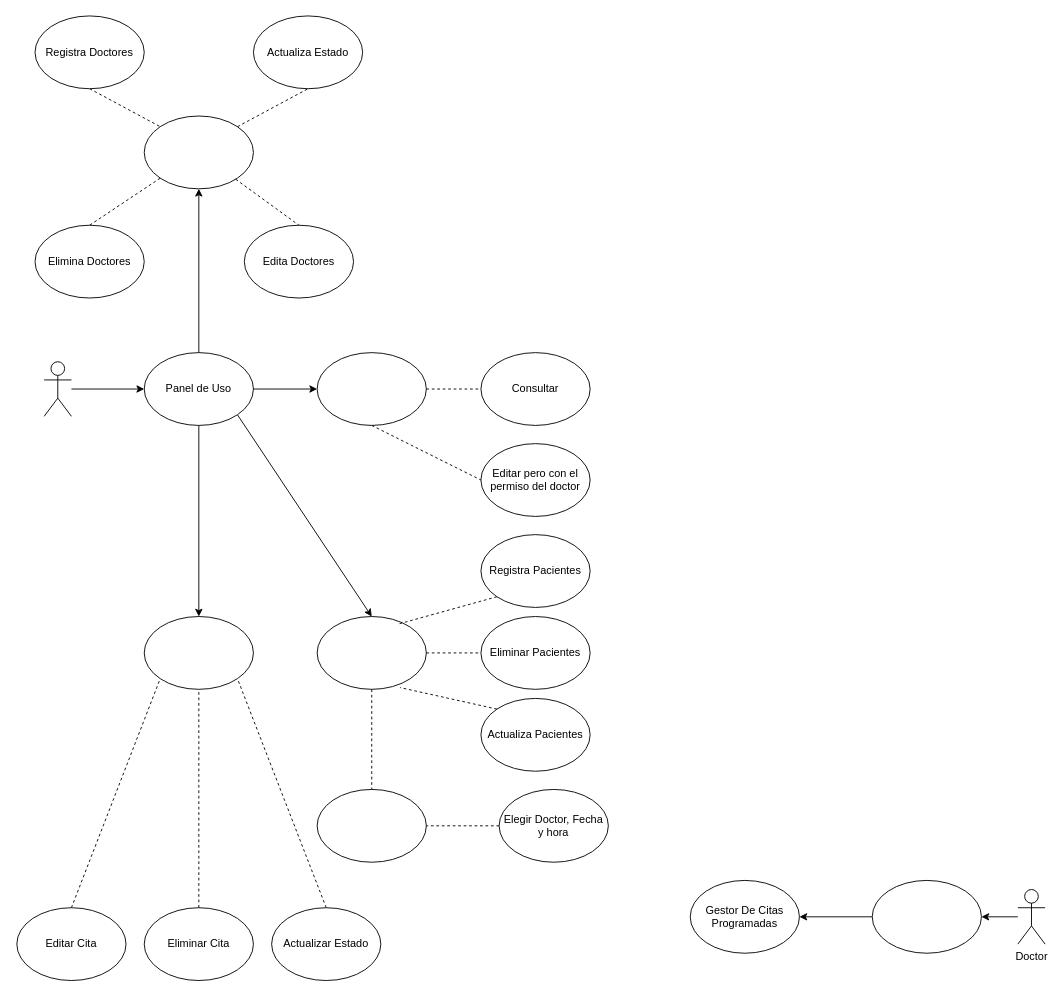
Image size: 1063x996. Some labels were removed from this diagram. Here are the shapes that lost their labels. From the top down, the box of each, then its label:
(143, 115, 253, 189): Gestión Doctores
(43, 361, 71, 416): Admin/Secretaria
(316, 352, 426, 425): Consultar Historial Paciente
(143, 616, 253, 689): Citas Creadas/Pendientes
(316, 616, 426, 689): Gestión Pacientes
(316, 789, 426, 862): Agendar Citas
(871, 880, 981, 953): Panel Doctor
